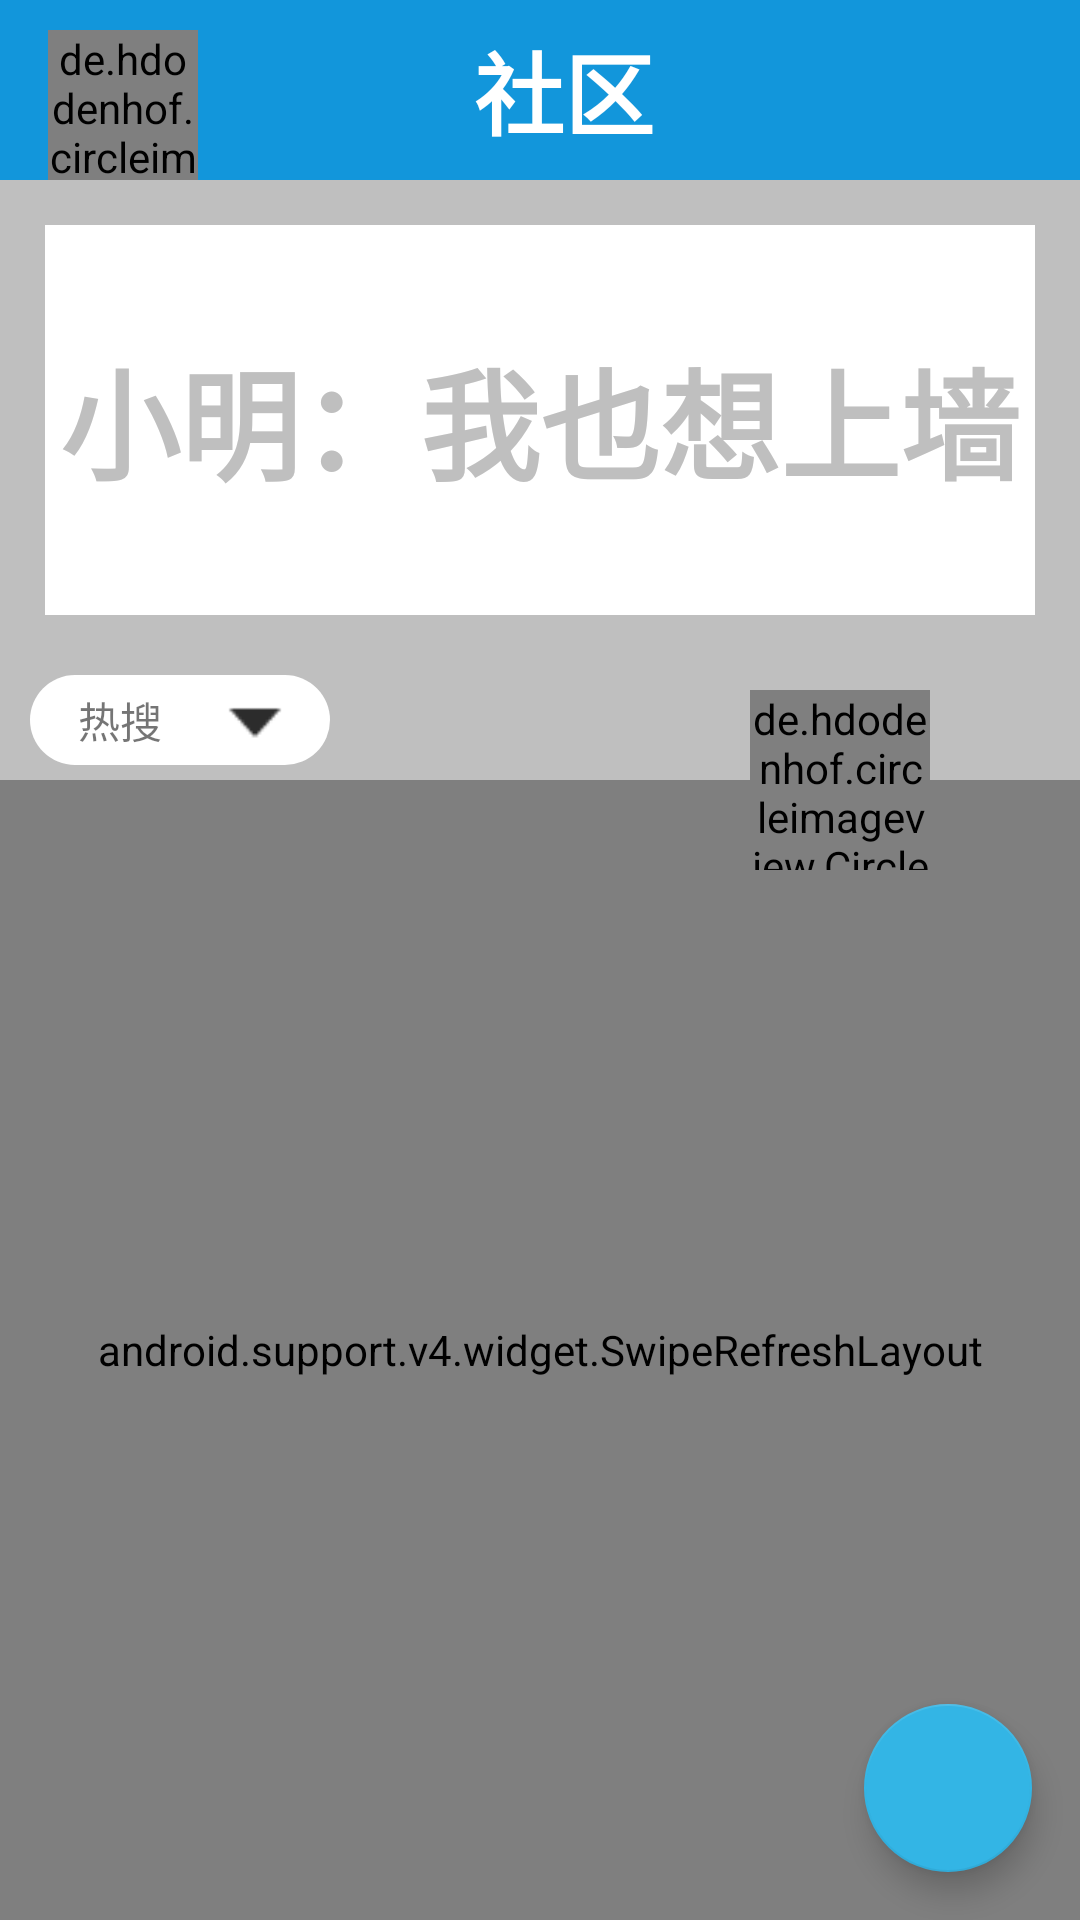

Where icons sit on this 1080px×1920px app screen, as (x1, y1, x2, y2):
pull down: (229, 708, 281, 737)
